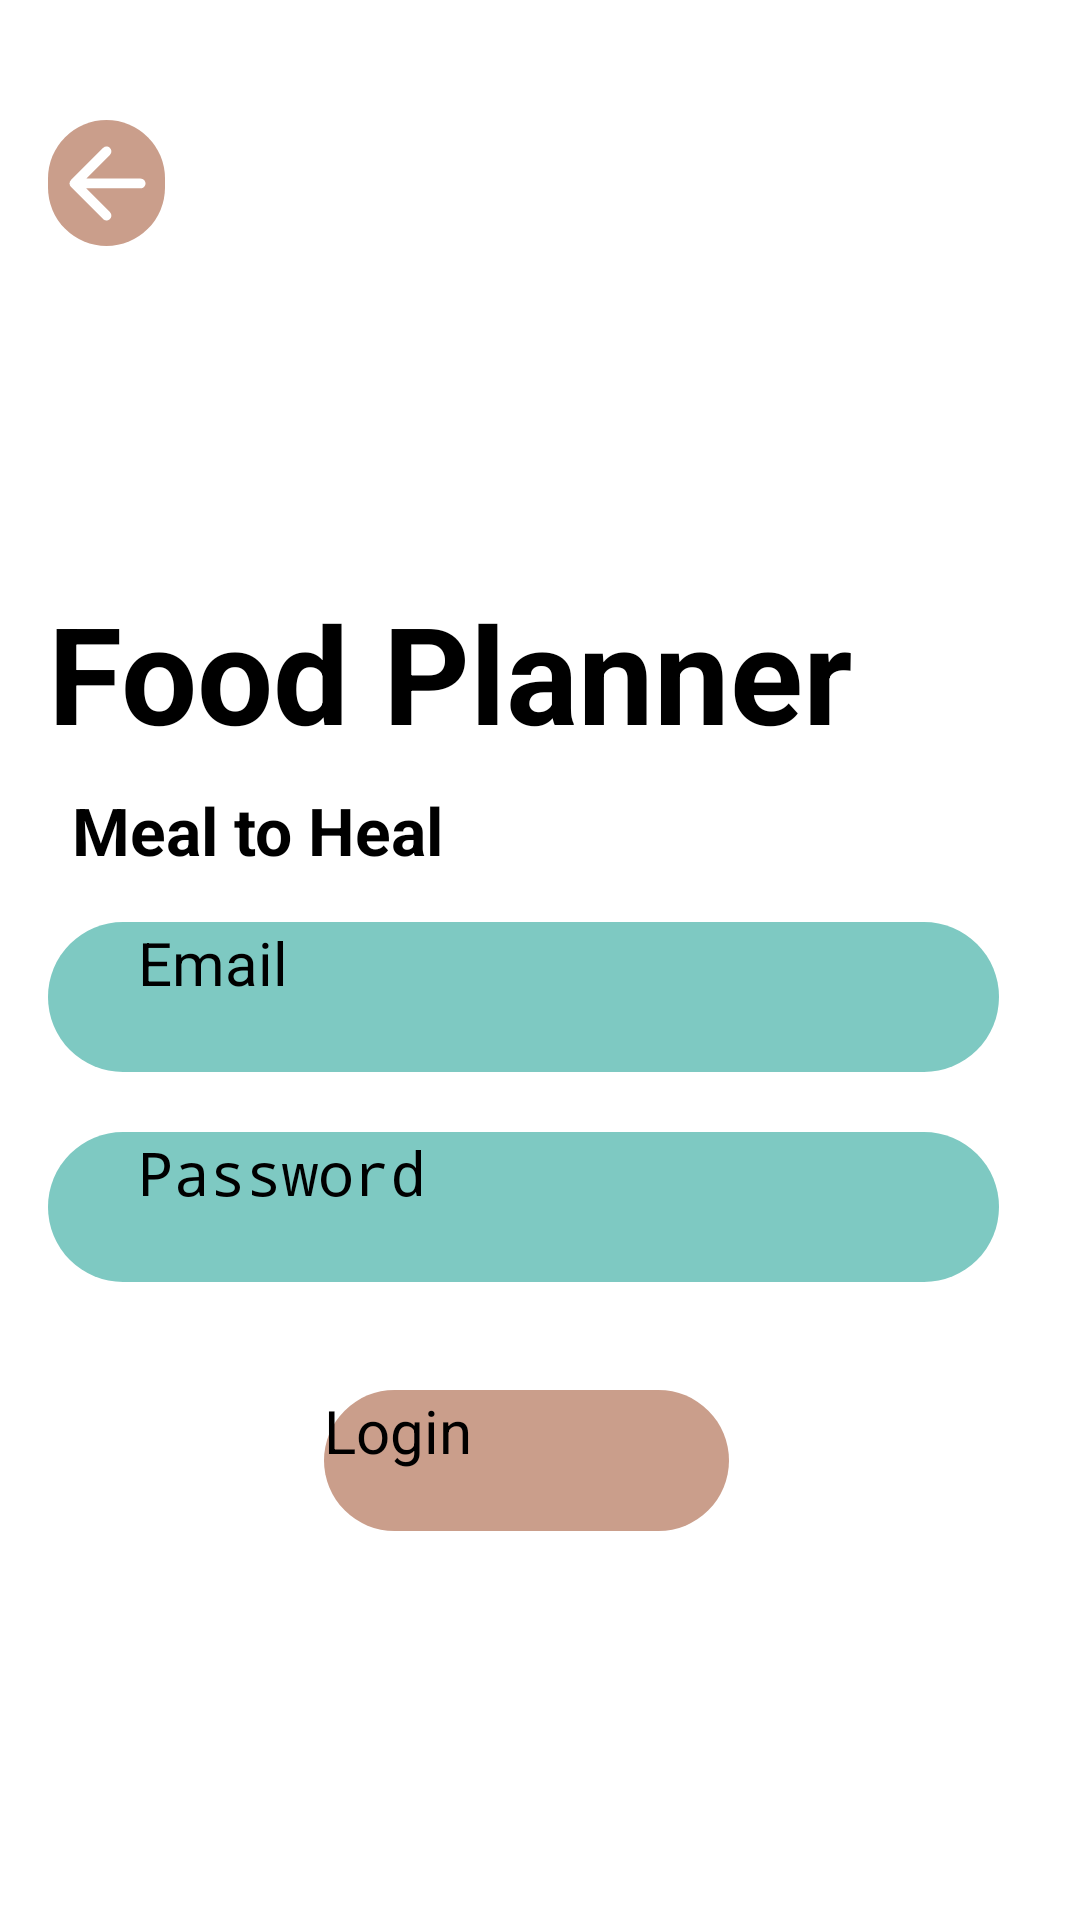

Where to tap for icons on this 1080px×1920px app screen, as [x,y]:
back arrow: [106,183]
